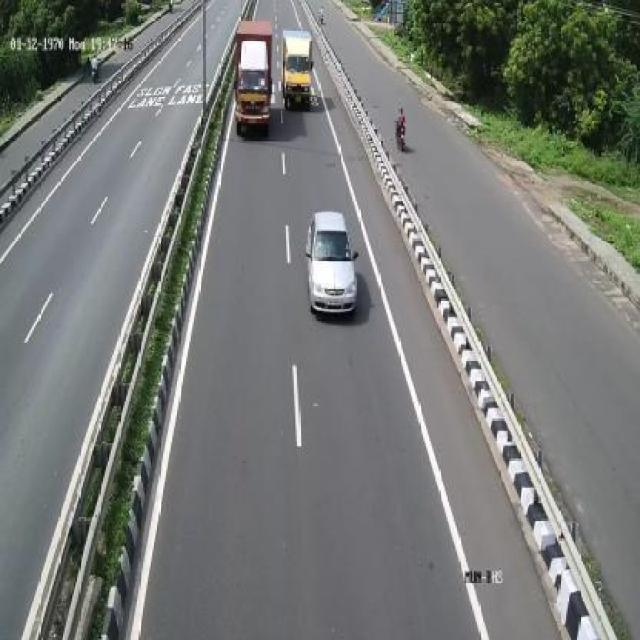car: (306, 205, 360, 320)
